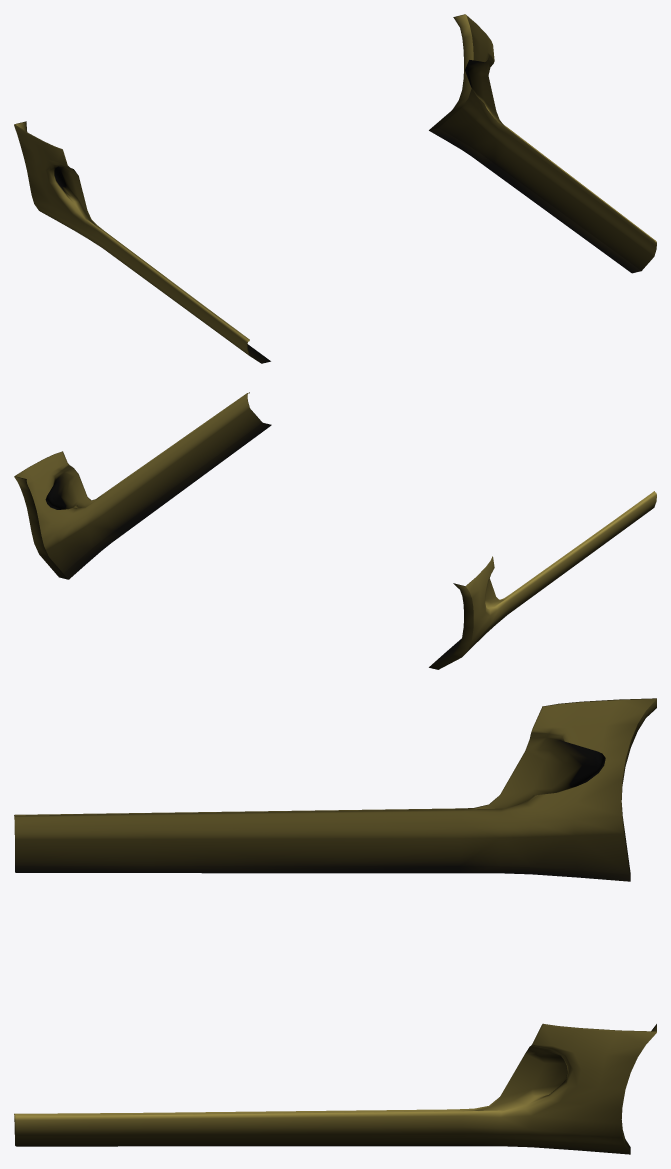
File: Supra_SideSkirt_01_Duco.fbx
3 renders of one model, top to bottom at view 1: azimuth 30°, elevation 25°; view 2: azimuth 150°, elevation 25°; view 3: azimuth 270°, elevation 25°, orthographic. The views are drawn at different scales.
Parts seen in each view (by area): view 1: Supra_SideSkirt_01_Duco; view 2: Supra_SideSkirt_01_Duco; view 3: Supra_SideSkirt_01_Duco.
Boxes of the visible parts, x1,y1,x2,y2 form: Supra_SideSkirt_01_Duco: (14, 14, 656, 363); Supra_SideSkirt_01_Duco: (14, 392, 656, 669); Supra_SideSkirt_01_Duco: (14, 698, 656, 1154).
Bounding box in the file's own units: 187 × 39.05 × 152.
